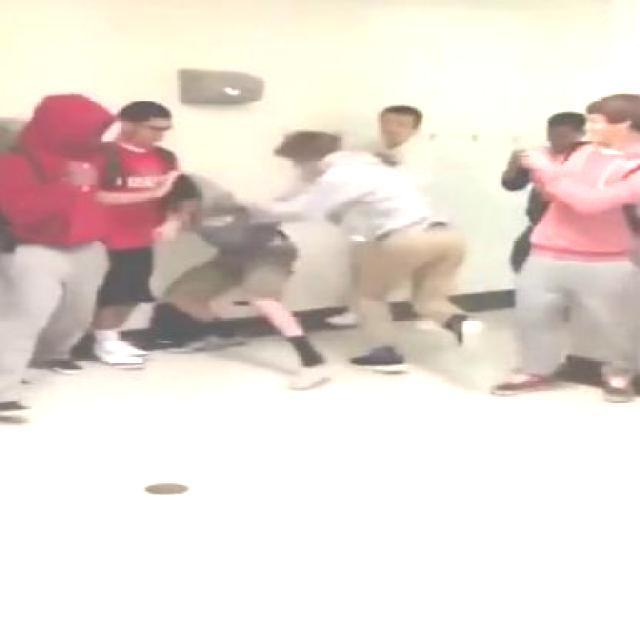fight: (149, 129, 486, 389)
